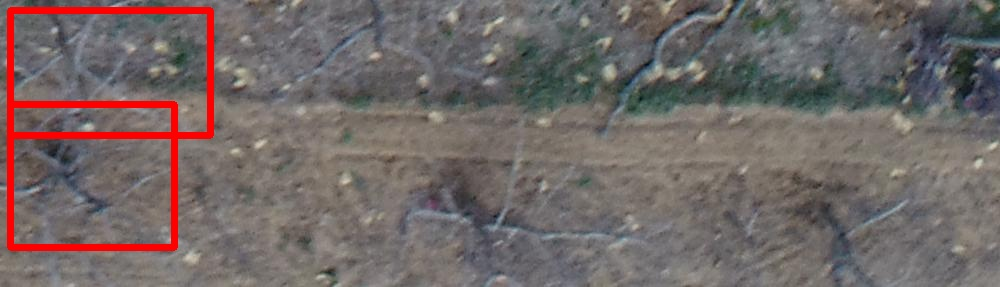apple: (10, 10, 210, 135), (10, 104, 174, 247)
